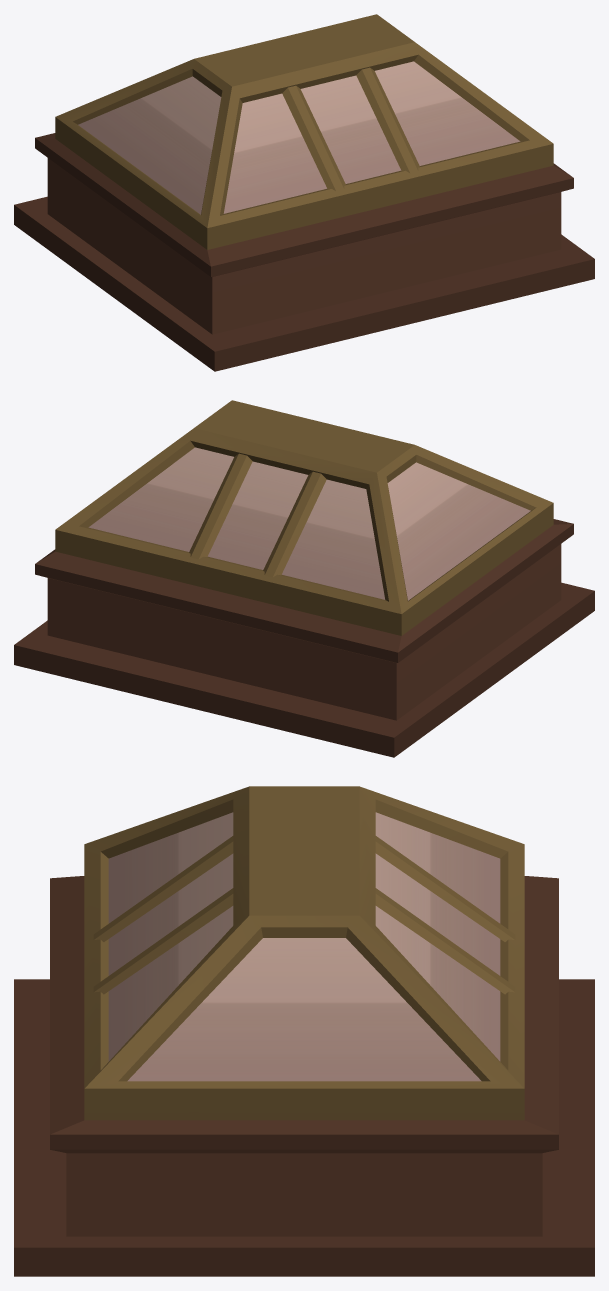
The model's file is RoofLights_4_D.fbx.
3 renders of one model, top to bottom at view 1: azimuth 30°, elevation 25°; view 2: azimuth 150°, elevation 25°; view 3: azimuth 270°, elevation 25°, orthographic. The views are drawn at different scales.
Parts seen in each view (by area): view 1: RoofLights_4_D; view 2: RoofLights_4_D; view 3: RoofLights_4_D.
Boxes of the visible parts, x1,y1,x2,y2 form: RoofLights_4_D: (14, 14, 594, 371); RoofLights_4_D: (14, 400, 594, 757); RoofLights_4_D: (14, 786, 594, 1276).
Bounding box in the file's own units: 216 × 109 × 198.
